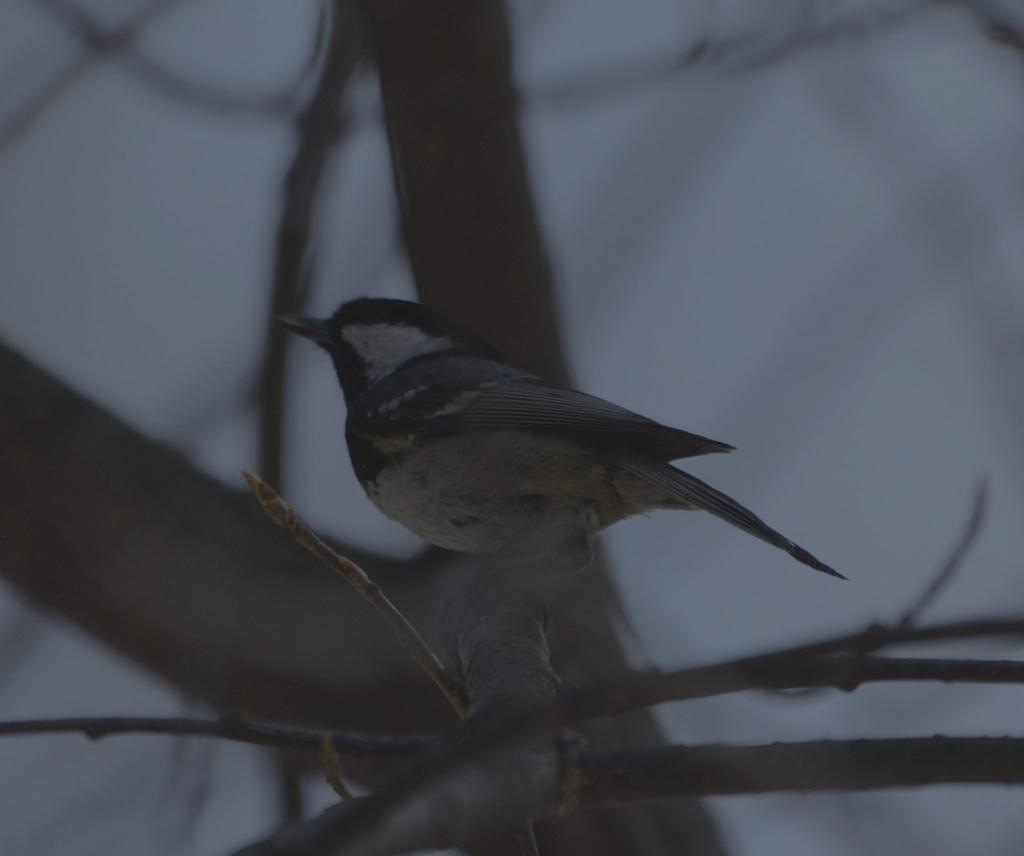PeriparusAter: (274, 294, 851, 681)
